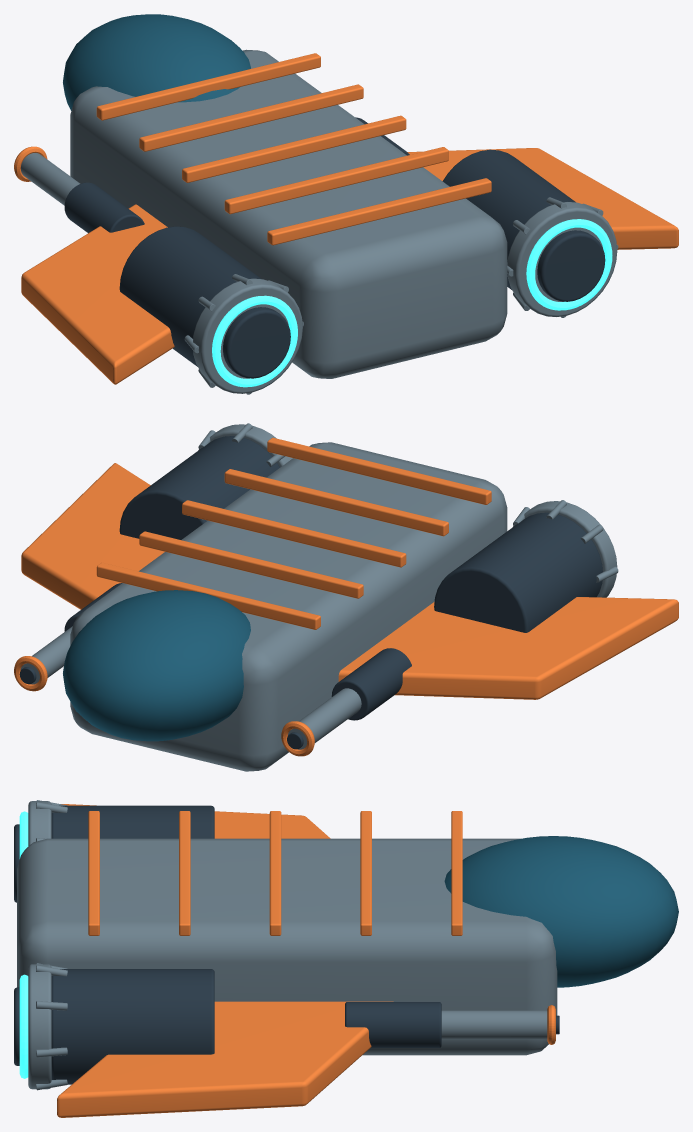
File: CargoShuttle.fbx
3 views of the same model, one above another, from view 1: azimuth 30°, elevation 25°; view 2: azimuth 150°, elevation 25°; view 3: azimuth 270°, elevation 25° (orthographic). The views are drawn at different scales.
Parts seen in each view (by area): view 1: Cargo pressure shell, Lifting wing, Forward cockpit, Engine pressure vessel.008, Lifting wing.001, Engine pressure vessel.009, Exhaust rim.009, Exhaust rim.008, Dark exhaust throat.009, Dark exhaust throat.008, Cargo restraints, Cargo restraints.002 (+7 smaller); view 2: Cargo pressure shell, Forward cockpit, Lifting wing, Engine pressure vessel.008, Lifting wing.001, Engine pressure vessel.009, Cargo restraints, Cargo restraints.002, Cargo restraints.003, Cargo restraints.001, Cargo restraints.004, Gun shroud.004 (+6 smaller); view 3: Cargo pressure shell, Lifting wing.001, Forward cockpit, Engine pressure vessel.009, Engine pressure vessel.008, Gun shroud.005, Gun barrel.005, Exhaust rim.009, Lifting wing, Cargo restraints.002, Cargo restraints, Cargo restraints.001 (+4 smaller).
Part boxes in pixels (x1,y1,x2,y2): Cargo pressure shell: [70, 49, 507, 378]; Lifting wing: [21, 204, 174, 384]; Forward cockpit: [63, 14, 250, 110]; Engine pressure vessel.008: [119, 226, 261, 366]; Lifting wing.001: [407, 148, 678, 249]; Engine pressure vessel.009: [442, 149, 575, 289]; Exhaust rim.009: [507, 202, 617, 316]; Exhaust rim.008: [193, 278, 302, 393]; Dark exhaust throat.009: [537, 230, 605, 301]; Dark exhaust throat.008: [223, 307, 290, 378]; Cargo restraints: [267, 178, 491, 245]; Cargo restraints.002: [182, 115, 406, 182]; Cargo pressure shell: [70, 442, 507, 771]; Forward cockpit: [63, 590, 250, 741]; Lifting wing: [338, 597, 678, 699]; Engine pressure vessel.008: [434, 512, 602, 632]; Lifting wing.001: [21, 463, 164, 609]; Engine pressure vessel.009: [119, 436, 279, 539]; Cargo restraints: [267, 437, 491, 504]; Cargo restraints.002: [182, 500, 406, 567]; Cargo restraints.003: [139, 531, 363, 598]; Cargo restraints.001: [224, 469, 448, 536]; Cargo restraints.004: [96, 562, 320, 629]; Gun shroud.004: [331, 648, 411, 720]; Cargo pressure shell: [17, 838, 557, 1055]; Lifting wing.001: [57, 1001, 393, 1117]; Forward cockpit: [444, 836, 678, 987]; Engine pressure vessel.009: [51, 969, 214, 1084]; Engine pressure vessel.008: [51, 805, 214, 838]; Gun shroud.005: [345, 1002, 441, 1047]; Gun barrel.005: [441, 1010, 547, 1039]; Exhaust rim.009: [28, 964, 51, 1089]; Lifting wing: [61, 804, 330, 838]; Cargo restraints.002: [269, 811, 281, 935]; Cargo restraints: [88, 811, 99, 935]; Cargo restraints.001: [179, 811, 190, 935].
Bounding box in the file's own units: 359 × 93.5 × 345.
